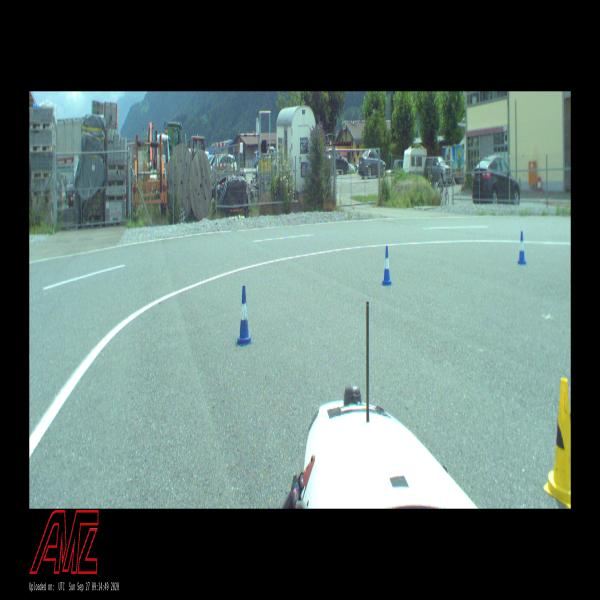blue_cone: (237, 287, 253, 345), (381, 246, 393, 285), (518, 231, 526, 264)
yellow_cone: (544, 378, 571, 509)
